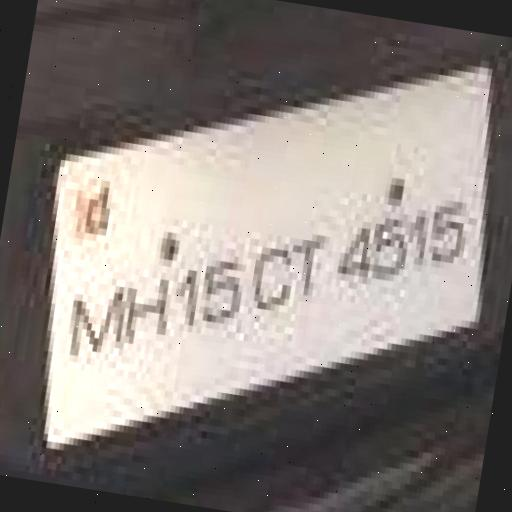number plate: (20, 109, 505, 455)
